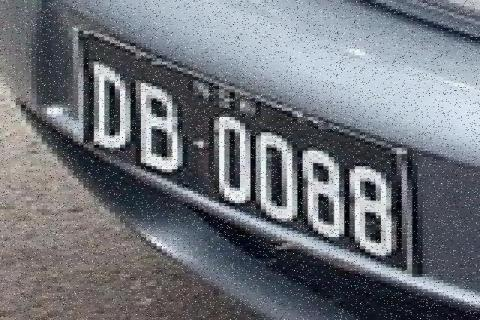LicensePlate: (41, 15, 446, 290)
